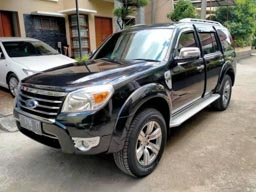plat: (14, 114, 41, 135)
